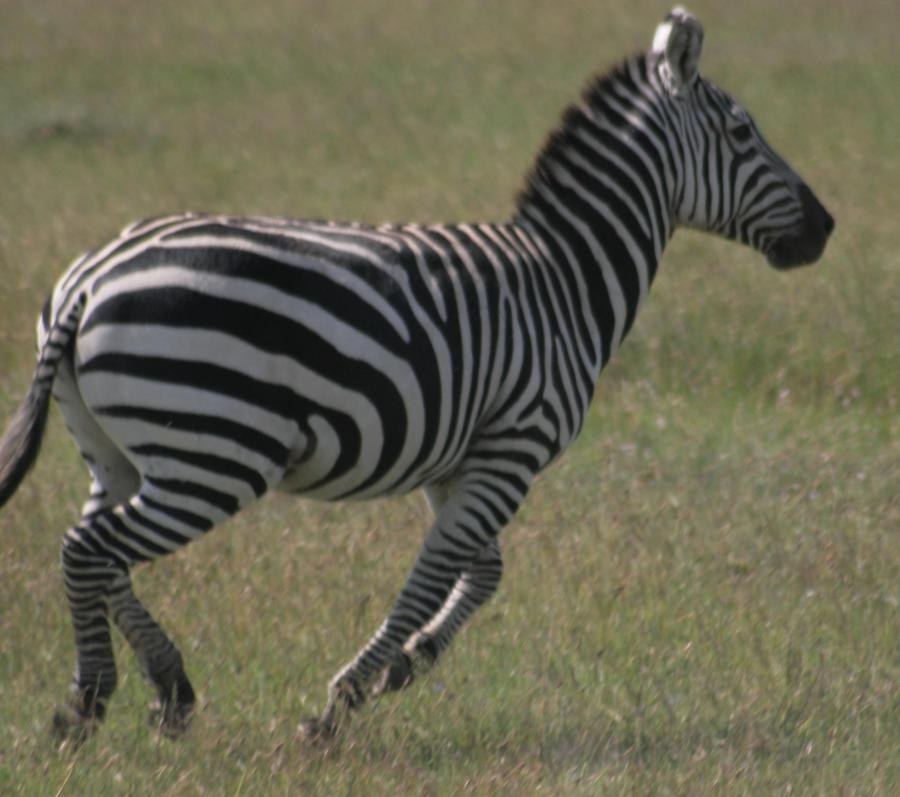zebra_plains: (104, 208, 600, 525)
